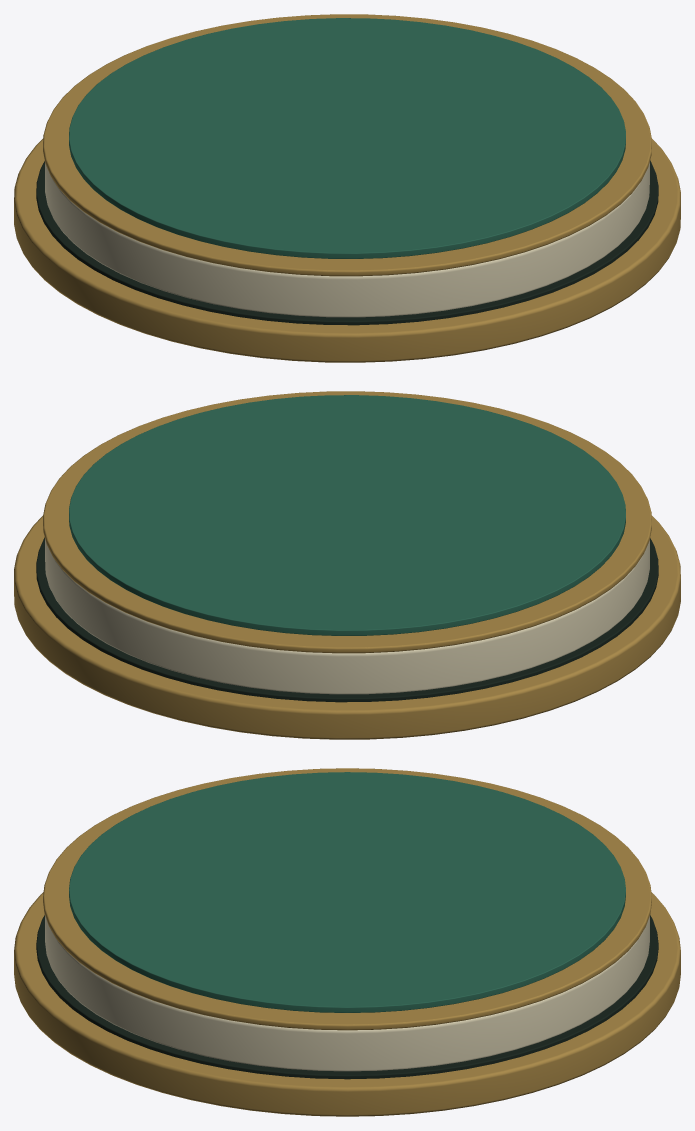
The model's file is GJH_VER_017.glb.
The picture shows the model from 3 angles, top to bottom: view 1: azimuth 30°, elevation 25°; view 2: azimuth 150°, elevation 25°; view 3: azimuth 270°, elevation 25°; orthographic projection.
Visible parts, largest first — view 1: GJH-VER-017_VISUAL; view 2: GJH-VER-017_VISUAL; view 3: GJH-VER-017_VISUAL.
Part boxes in pixels (<box>): GJH-VER-017_VISUAL: <box>14,14,680,362</box>; GJH-VER-017_VISUAL: <box>14,391,680,739</box>; GJH-VER-017_VISUAL: <box>14,768,680,1116</box>.
Bounding box in the file's own units: 4.5 × 0.6525 × 4.5.
